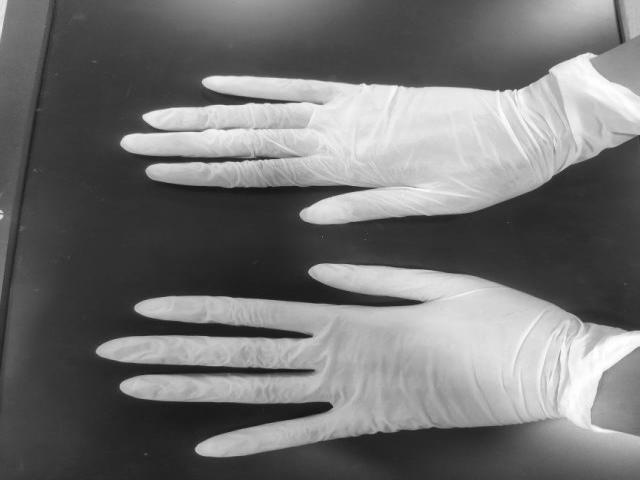gloved: (92, 261, 570, 459), (120, 74, 540, 224)
